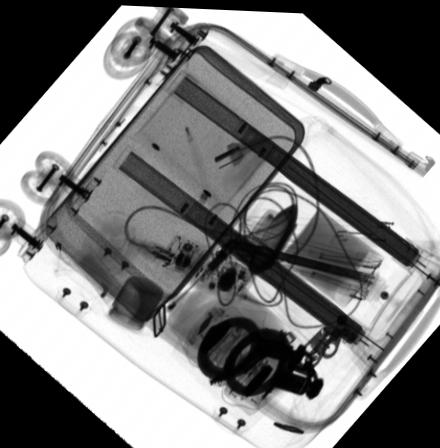HandCuffs: (196, 314, 325, 401)
